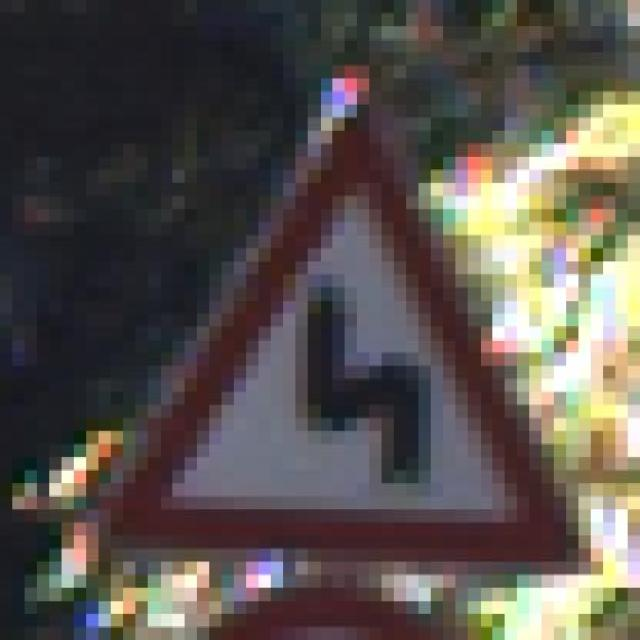Left Zig Zag Traffic: (99, 90, 603, 588)
